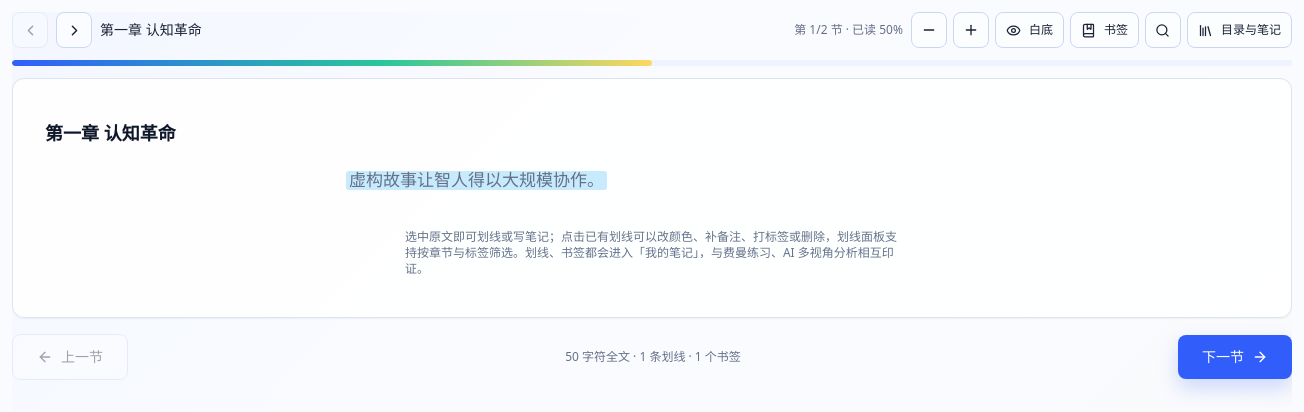
Test: BookReader search › reports when a keyword is missing from the book
Click the button named "在全书中检索".
click(1163, 30)  # box [1145,12,1181,48]
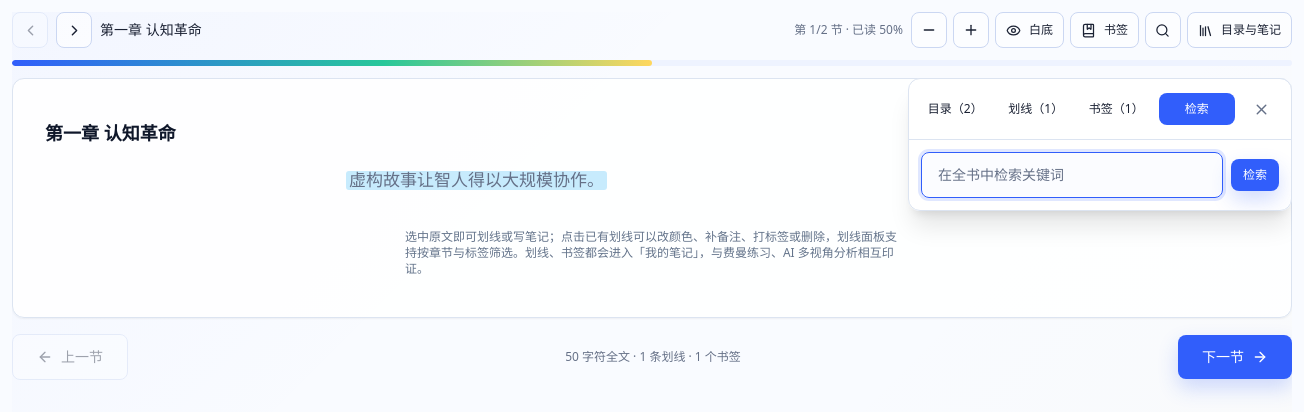
Type "不存在的内容" into the field labelled "检索关键词".
click(1072, 175); type("不存在的内容")  # box [921,152,1223,198]
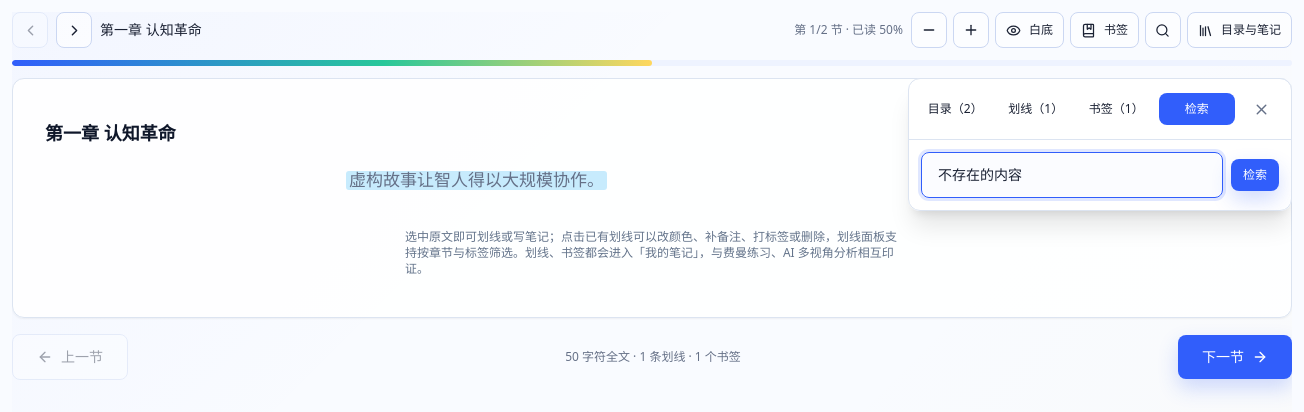
Click the 2nd button "检索".
click(1255, 175)  # box [1231,159,1279,191]
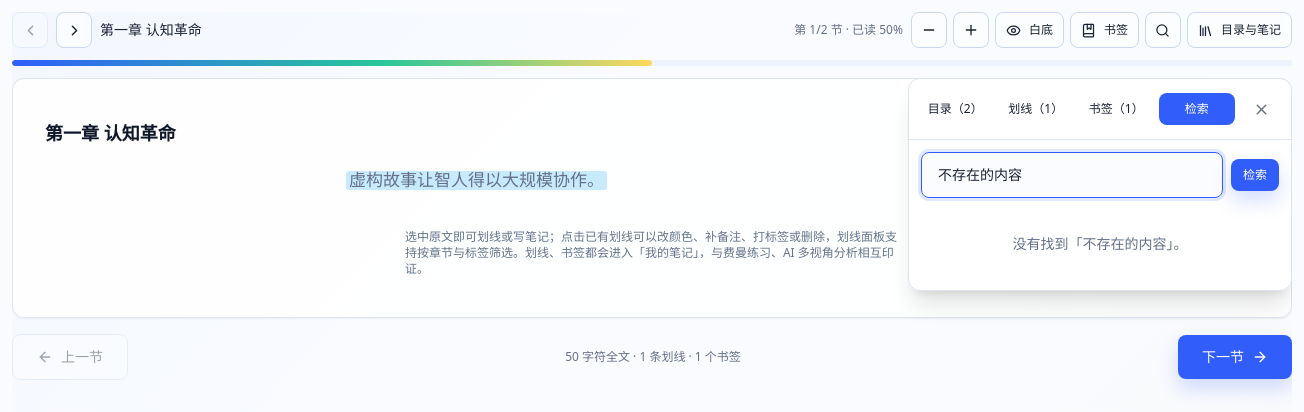
Result: the text "没有找到「不存在的内容」。" is shown at [1012,234,1188,253]
